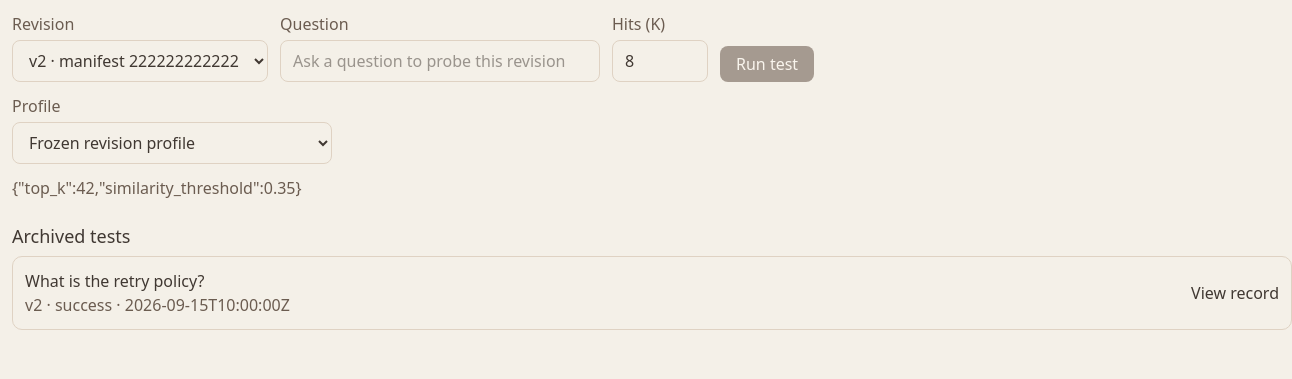
Test: RetrievalTestPanel › shows the restricted state when an archived record is inaccessible
This screenshot has width=1292, height=379.
What coordinates should you click on to do the following:
click the button "View record"
I would click on:
 (1235, 293)
Its box is left=1191, top=281, right=1279, bottom=305.
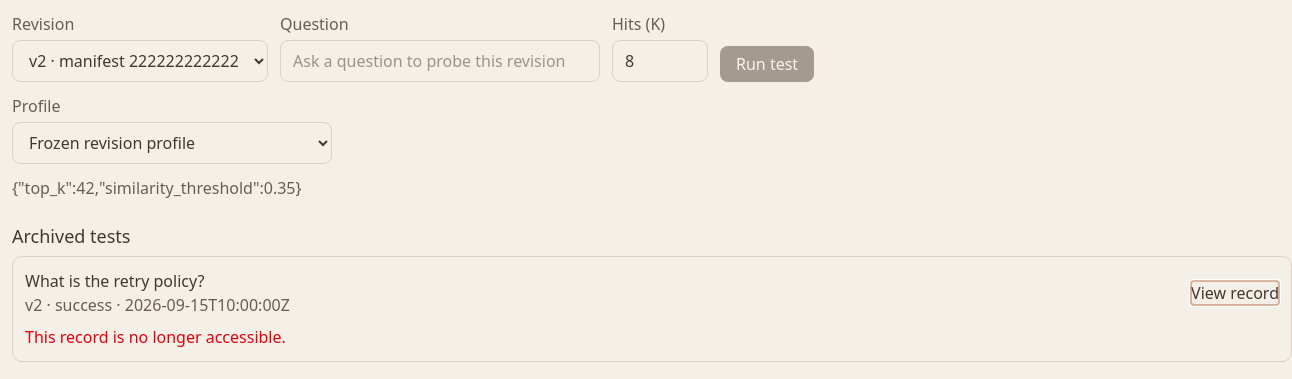
Check: the text "This record is no longer accessible." is shown, box left=25, top=326, right=286, bottom=348
